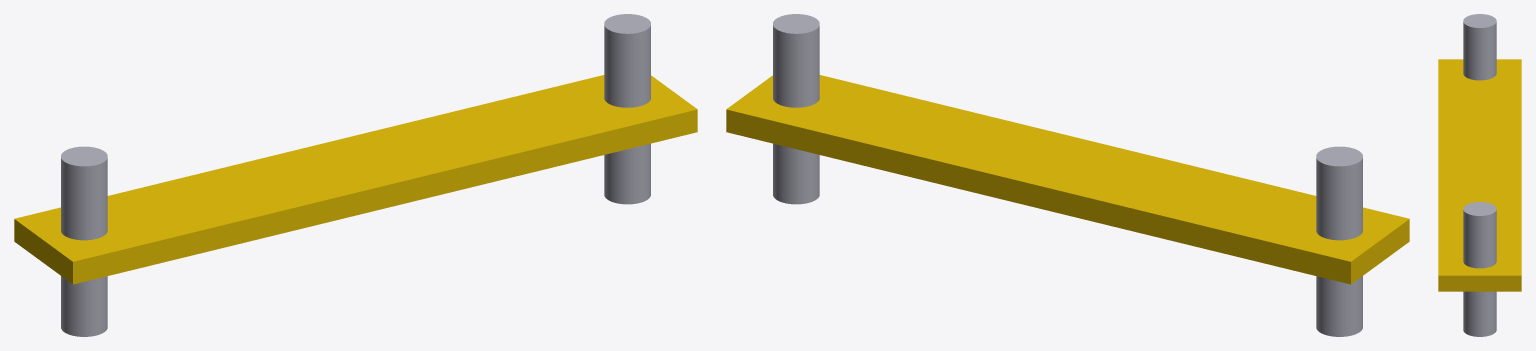
File: PF-K401_drawbar_800.glb
The picture shows the model from 3 angles, left to right: view 1: azimuth 30°, elevation 25°; view 2: azimuth 150°, elevation 25°; view 3: azimuth 270°, elevation 25°; orthographic projection. The views are drawn at different scales.
Parts seen in each view (by area): view 1: 000 DB-800 drawbar PL32x150 A572-50, 001 DB-800 pin Ã60 4140, 002 DB-800 pin Ã60 4140; view 2: 000 DB-800 drawbar PL32x150 A572-50, 001 DB-800 pin Ã60 4140, 002 DB-800 pin Ã60 4140; view 3: 000 DB-800 drawbar PL32x150 A572-50, 002 DB-800 pin Ã60 4140, 001 DB-800 pin Ã60 4140.
Part boxes in pixels (x1=…): 000 DB-800 drawbar PL32x150 A572-50: x1=14, y1=75, x2=697, y2=284; 001 DB-800 pin Ã60 4140: x1=61, y1=146, x2=107, y2=336; 002 DB-800 pin Ã60 4140: x1=604, y1=14, x2=650, y2=204; 000 DB-800 drawbar PL32x150 A572-50: x1=726, y1=75, x2=1409, y2=284; 001 DB-800 pin Ã60 4140: x1=1316, y1=146, x2=1362, y2=336; 002 DB-800 pin Ã60 4140: x1=773, y1=14, x2=819, y2=204; 000 DB-800 drawbar PL32x150 A572-50: x1=1438, y1=59, x2=1521, y2=291; 002 DB-800 pin Ã60 4140: x1=1463, y1=202, x2=1496, y2=336; 001 DB-800 pin Ã60 4140: x1=1463, y1=14, x2=1496, y2=80.
Size of the model in its own units: 920 by 240 by 150.
